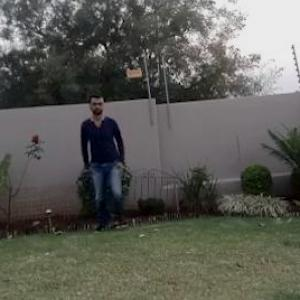follow: (81, 90, 132, 235)
